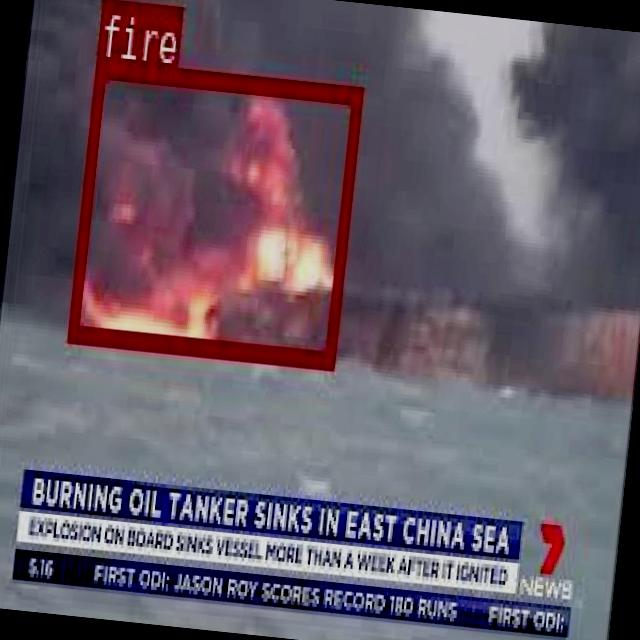fire: (67, 58, 361, 364)
